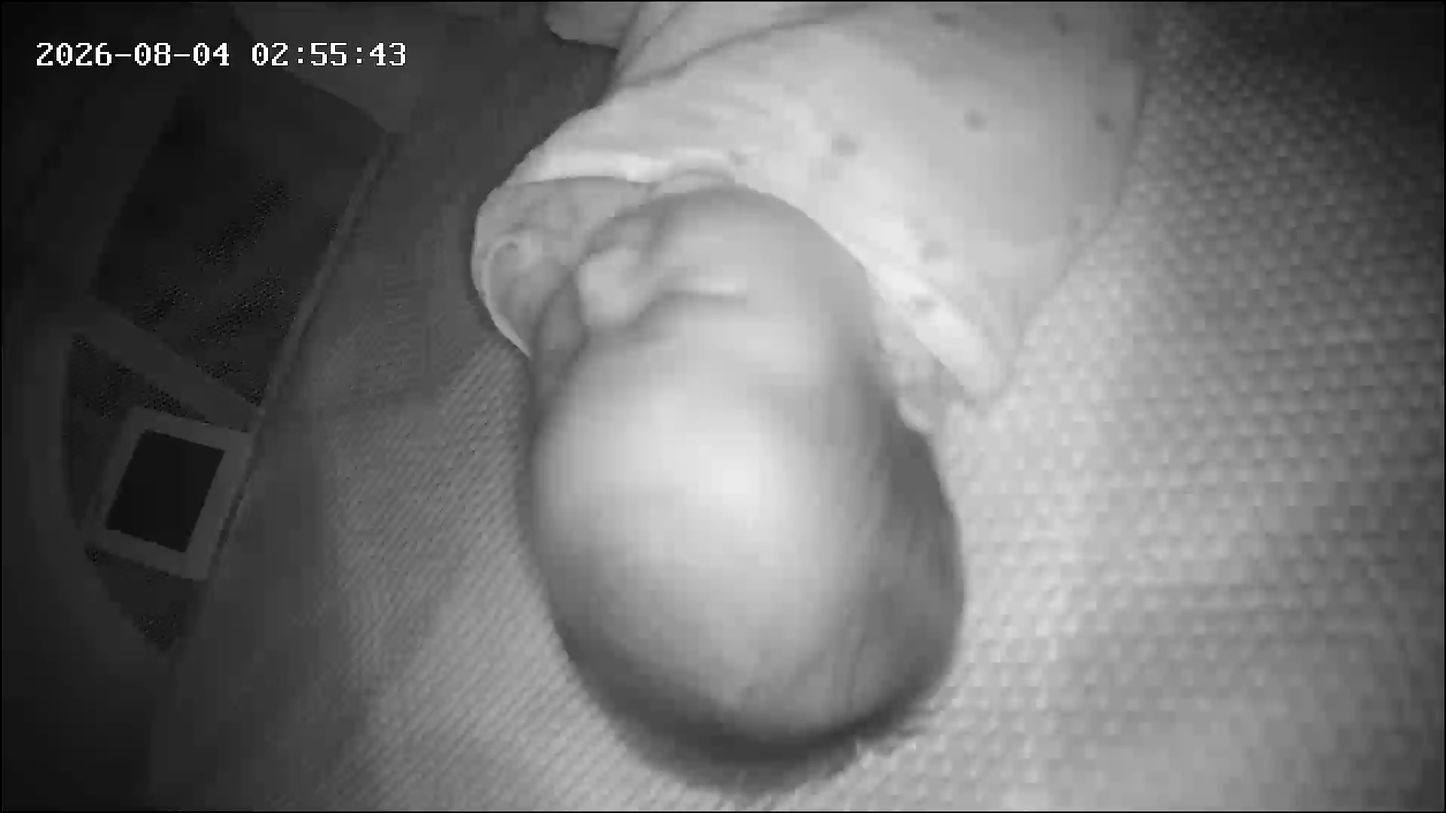baby: (1, 3, 1007, 802), (194, 0, 1191, 800)
baby_face: (500, 167, 969, 782)
